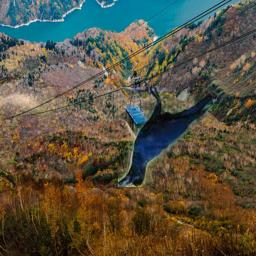Crow: (118, 87, 217, 187)
